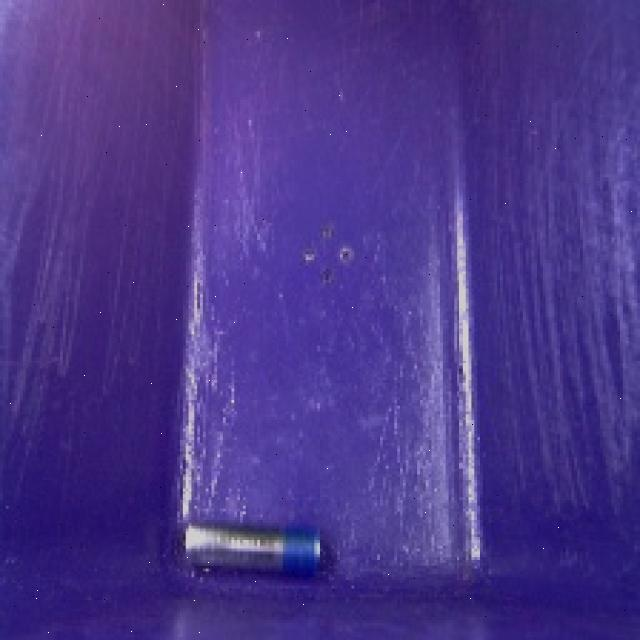battery: (168, 516, 336, 582)
